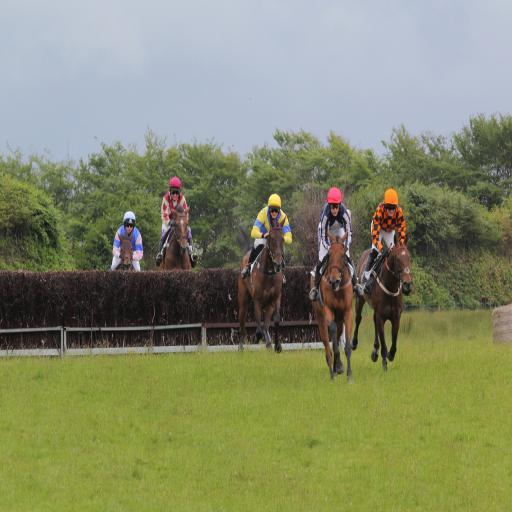horse: (350, 234, 413, 370), (237, 214, 287, 354), (312, 231, 354, 386), (158, 204, 192, 272), (114, 230, 137, 274)
